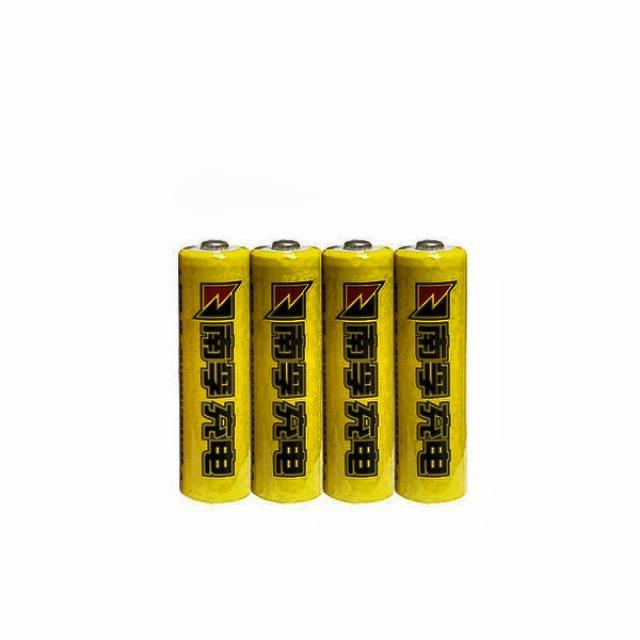battery: (322, 240, 394, 502), (395, 240, 466, 502), (251, 240, 322, 502), (179, 240, 250, 502)
